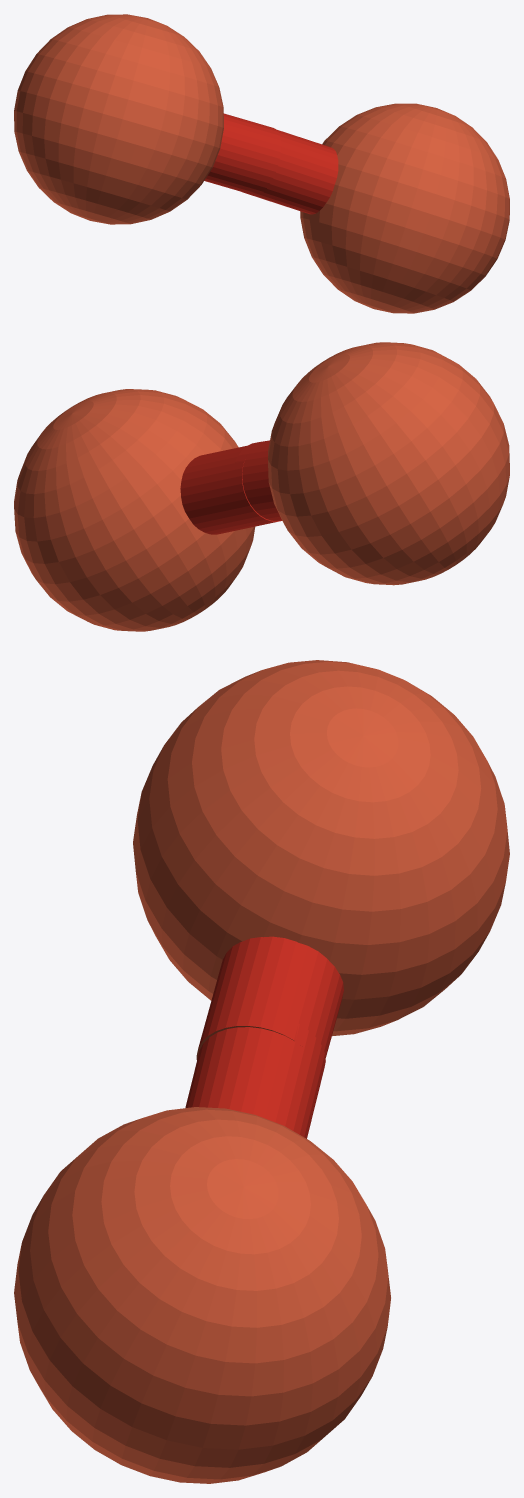
File: halogen 1.fbx
3 renders of one model, top to bottom at view 1: azimuth 30°, elevation 25°; view 2: azimuth 150°, elevation 25°; view 3: azimuth 270°, elevation 25°, orthographic. The views are drawn at different scales.
Visible parts, largest first — view 1: Sphere.001; view 2: Sphere.001; view 3: Sphere.001.
Part boxes in pixels (left/top/right/bottom): Sphere.001: left=14, top=14, right=509, bottom=313; Sphere.001: left=14, top=342, right=509, bottom=631; Sphere.001: left=14, top=660, right=509, bottom=1483.
Bounding box in the file's own units: 571 × 398 × 316.
